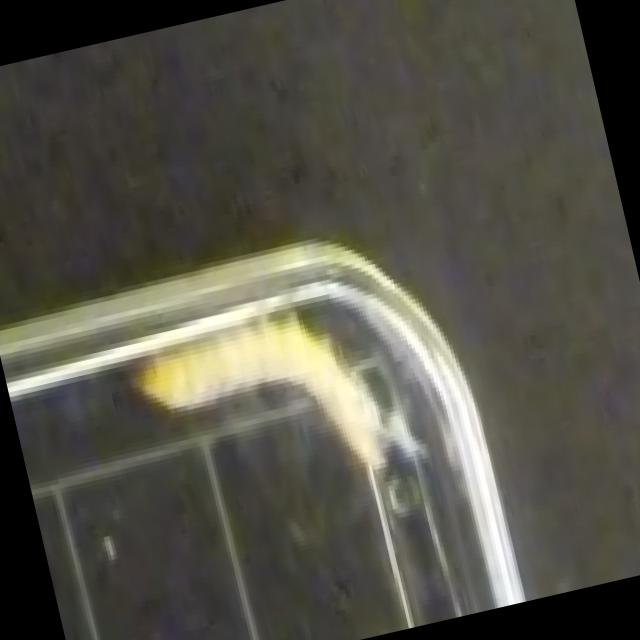larva: (123, 308, 388, 516)
